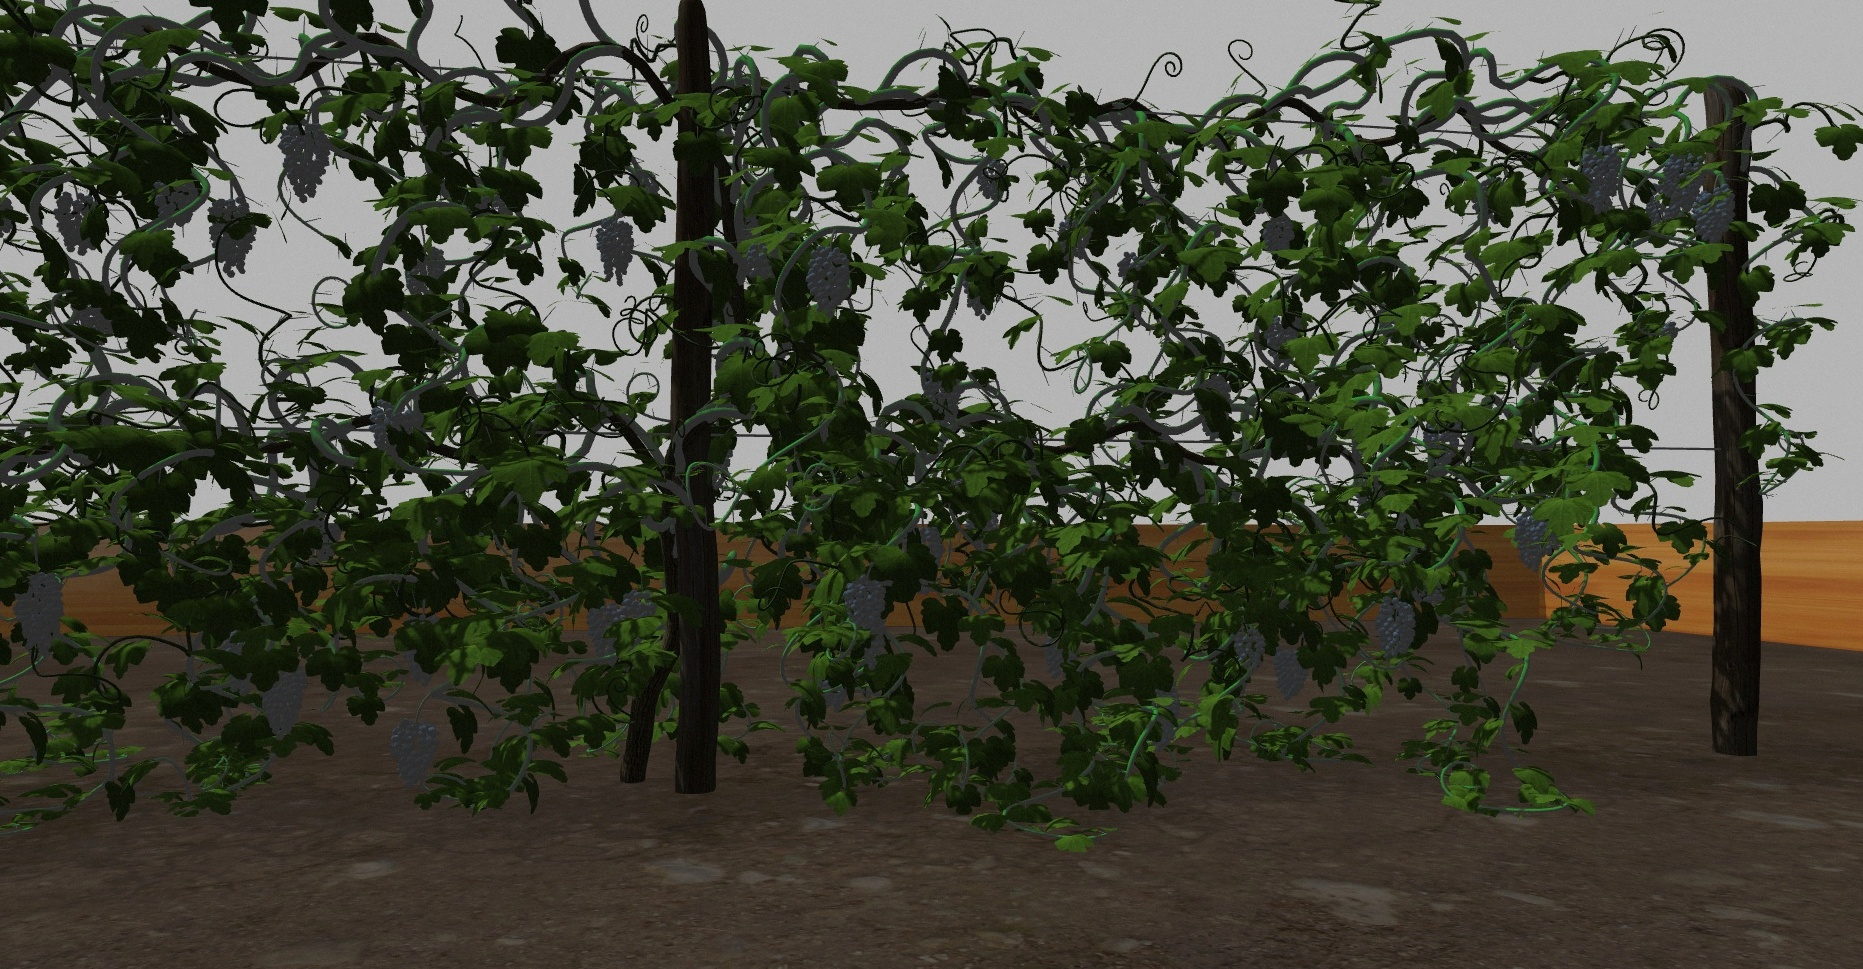grape: (12, 571, 65, 656), (278, 122, 331, 203), (207, 197, 256, 277), (261, 666, 308, 738), (391, 719, 439, 788), (806, 247, 851, 318), (368, 401, 423, 456), (54, 191, 100, 256), (1660, 150, 1704, 210), (595, 219, 635, 286), (1375, 595, 1416, 660), (1582, 145, 1620, 213), (1694, 182, 1735, 245), (844, 574, 890, 628), (1514, 512, 1552, 571), (153, 180, 197, 229), (925, 371, 965, 422), (1273, 646, 1309, 700), (1264, 316, 1299, 366), (586, 604, 621, 655), (1235, 626, 1265, 672), (1042, 637, 1074, 679), (620, 589, 657, 624), (1263, 216, 1295, 253), (978, 162, 1007, 200), (747, 243, 773, 277), (1118, 251, 1147, 276)
